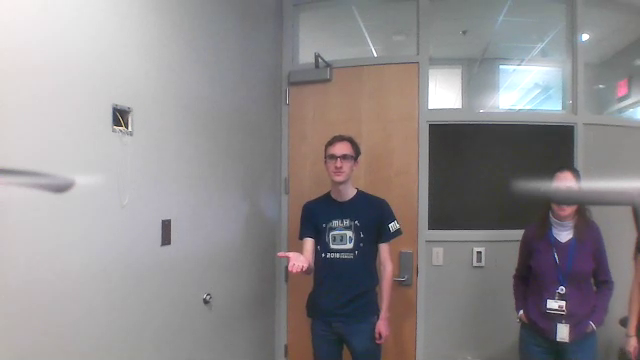land: (274, 247, 313, 282)
